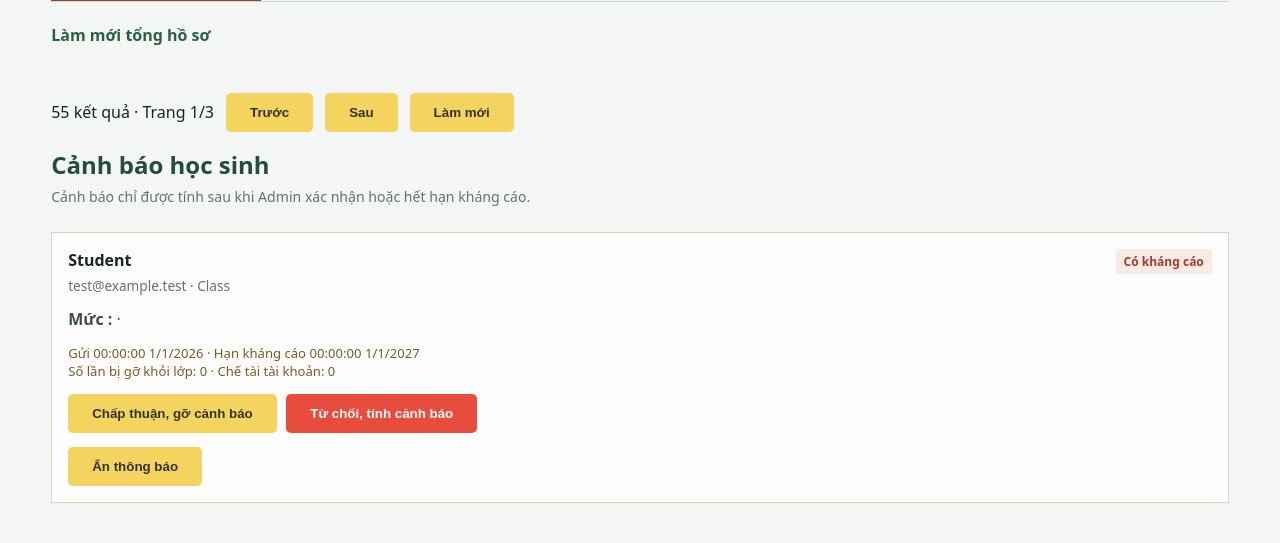
hiding a warning only changes the current admin view and persists after reload
(page scrolled)
Click the button "Ẩn thông báo". click: [135, 467]
box: [68, 447, 202, 486]
(page scrolled)
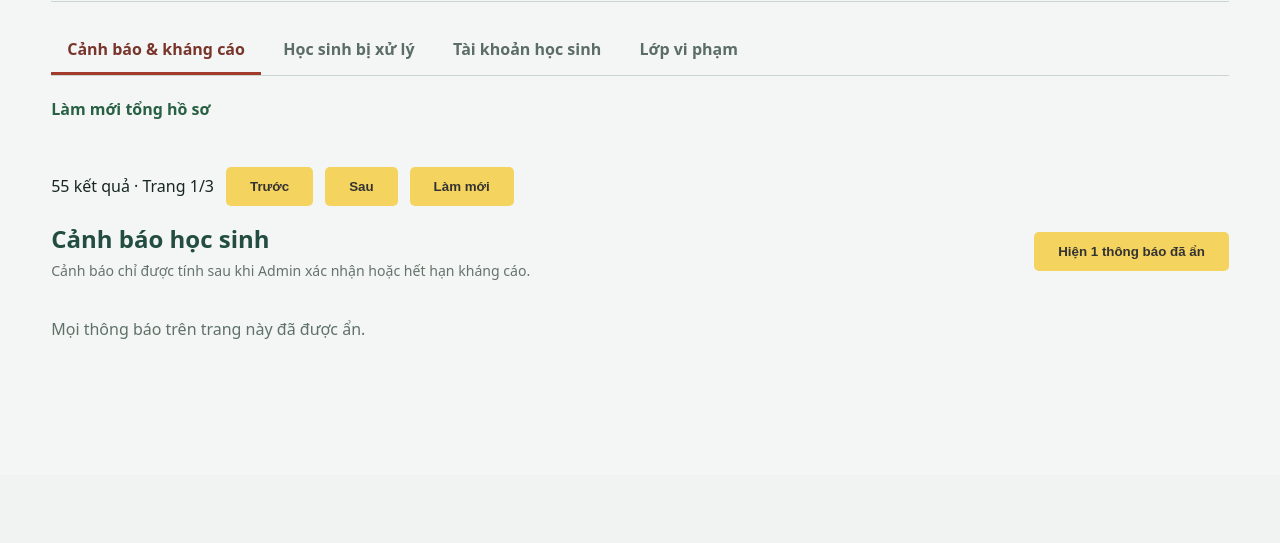
Expected: the element with class "admin-warning-card" is gone
Click the button "Hiện 1 thông báo đã ẩn". click: [1132, 251]
box: [1034, 232, 1229, 271]
(page scrolled)
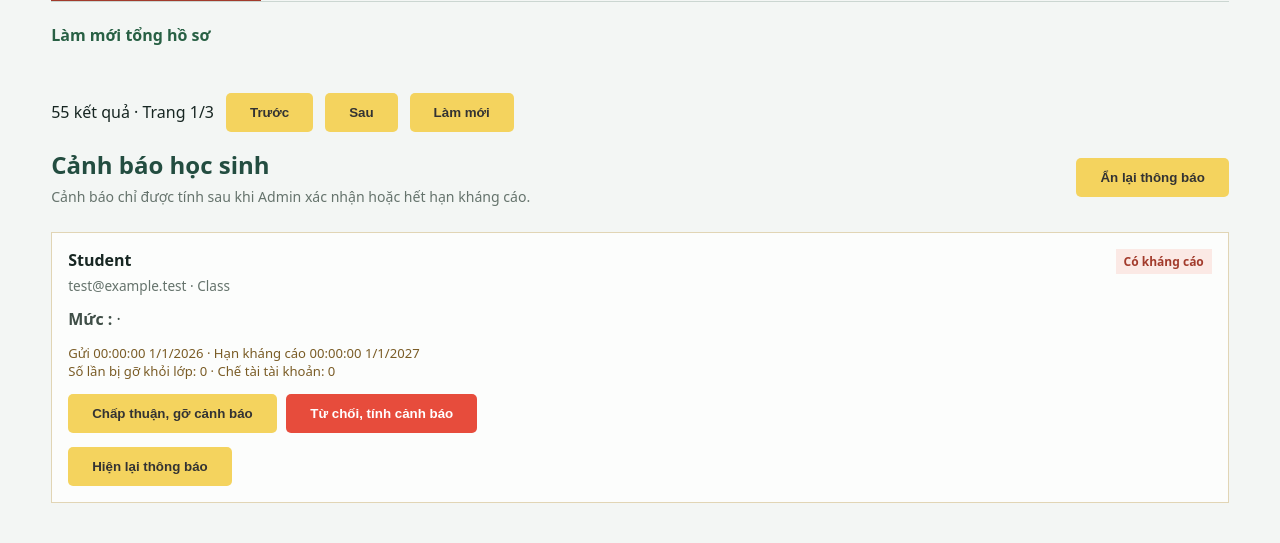
Expected: the element with class "admin-warning-card" is shown, [51, 232, 1229, 503]
